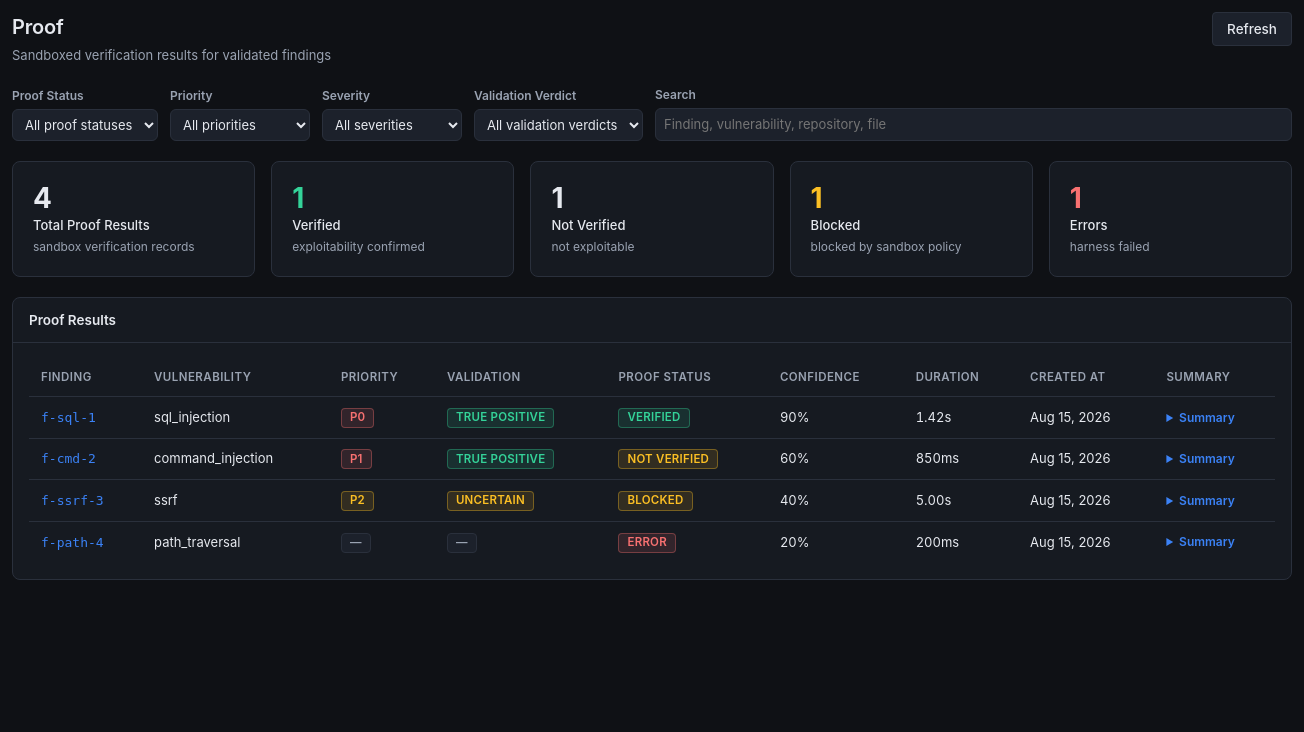
Test: proof filters › persists the status filter to the URL
Expected: the heading "Proof" is shown, [12,15,64,39]
Expected: the element "Proof Results" is shown, [12,297,1292,580]
Step 1. Select "VERIFIED" in the dropdown labelled "Proof Status" → [85, 125], box [12,109,158,141]
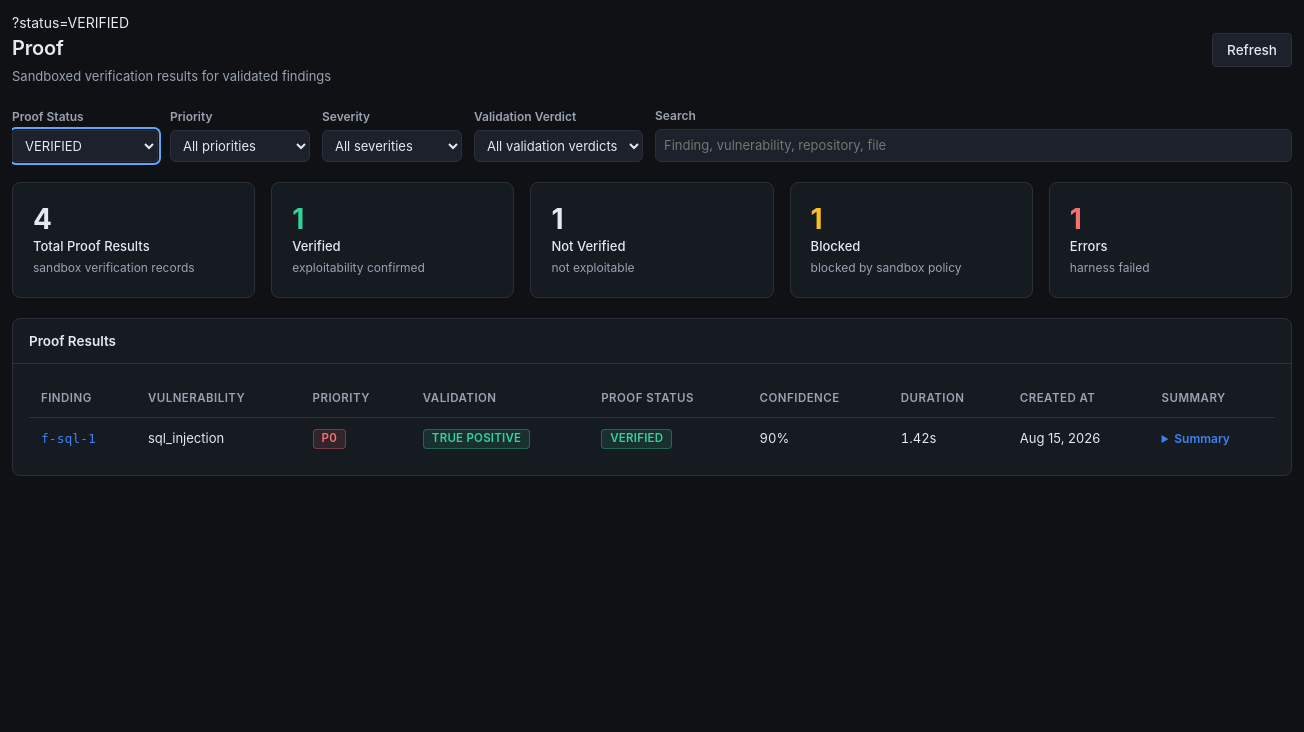
Result: the text with test id "router-search" shows "status=VERIFIED" at [12,14,129,31]
